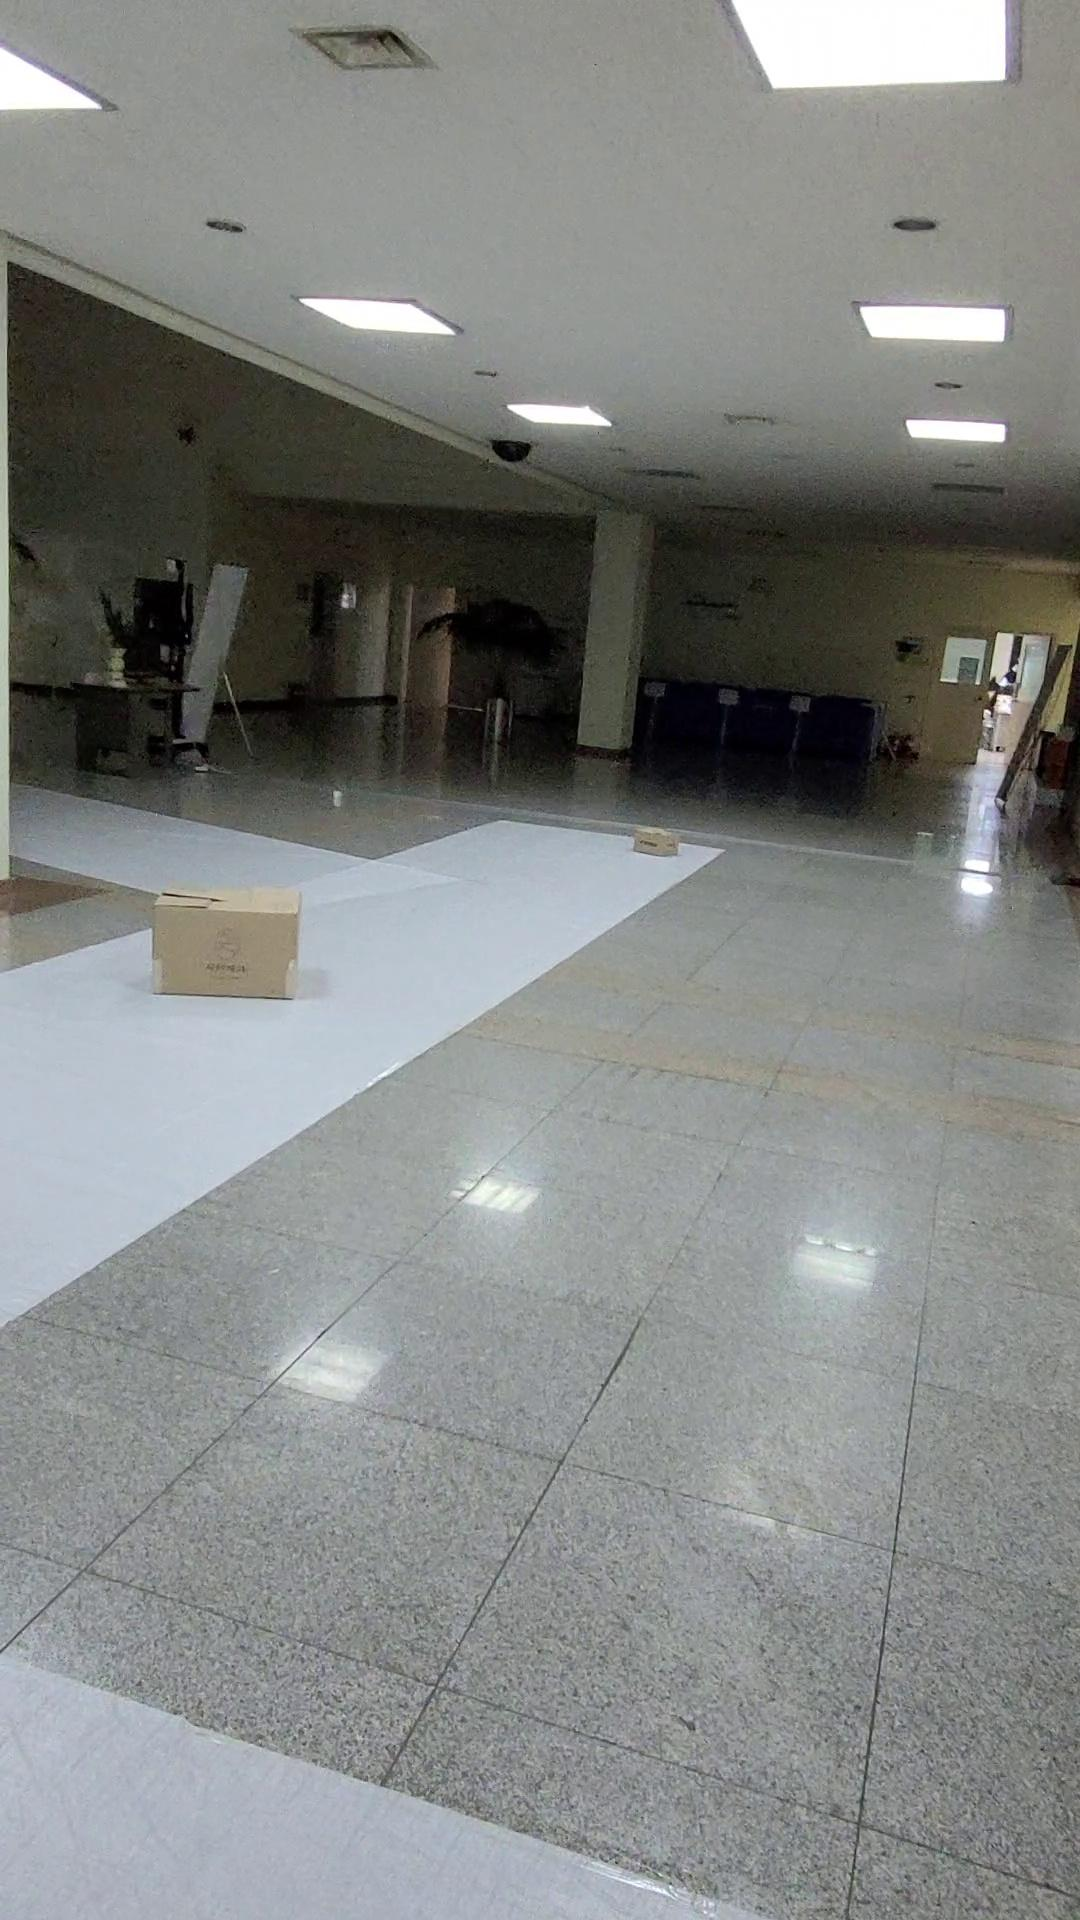Box: (117, 865, 324, 1021), (626, 815, 684, 862)
